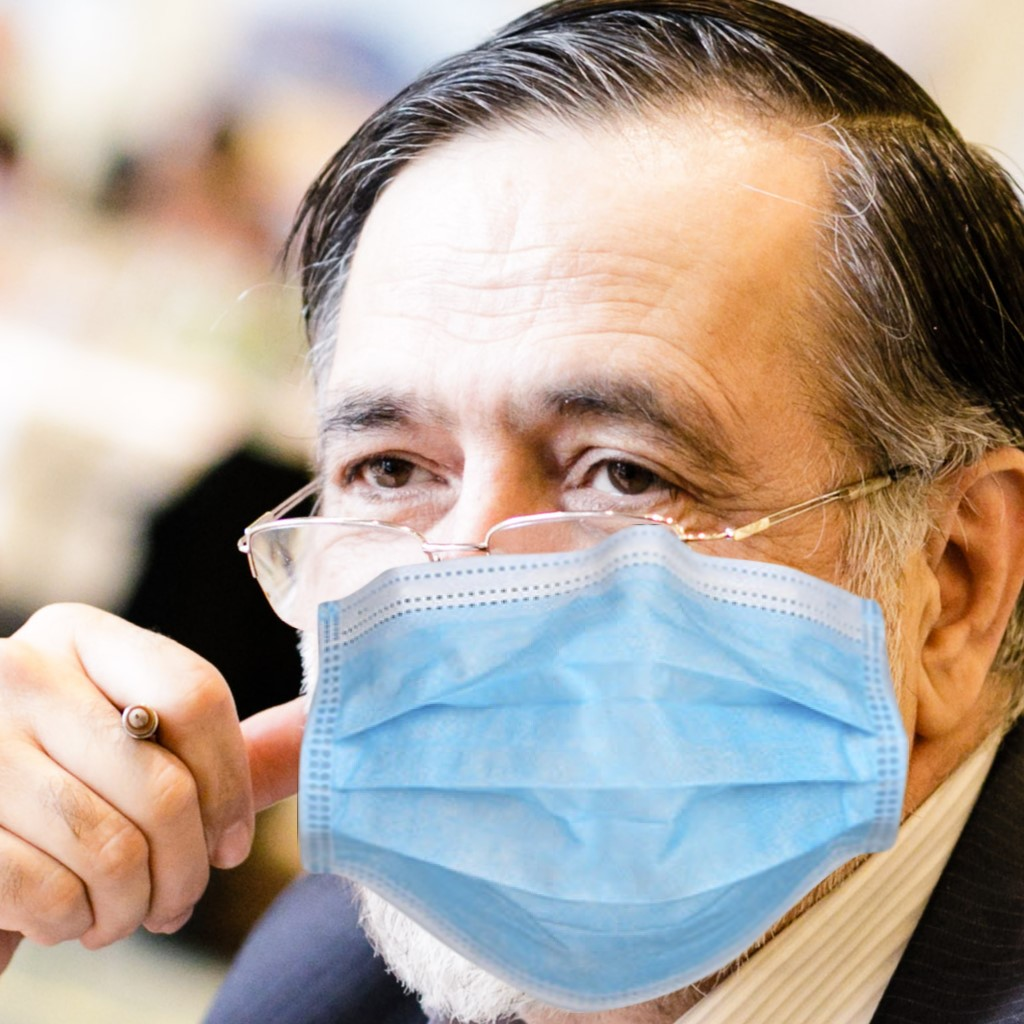con_mascara: (332, 128, 909, 904)
